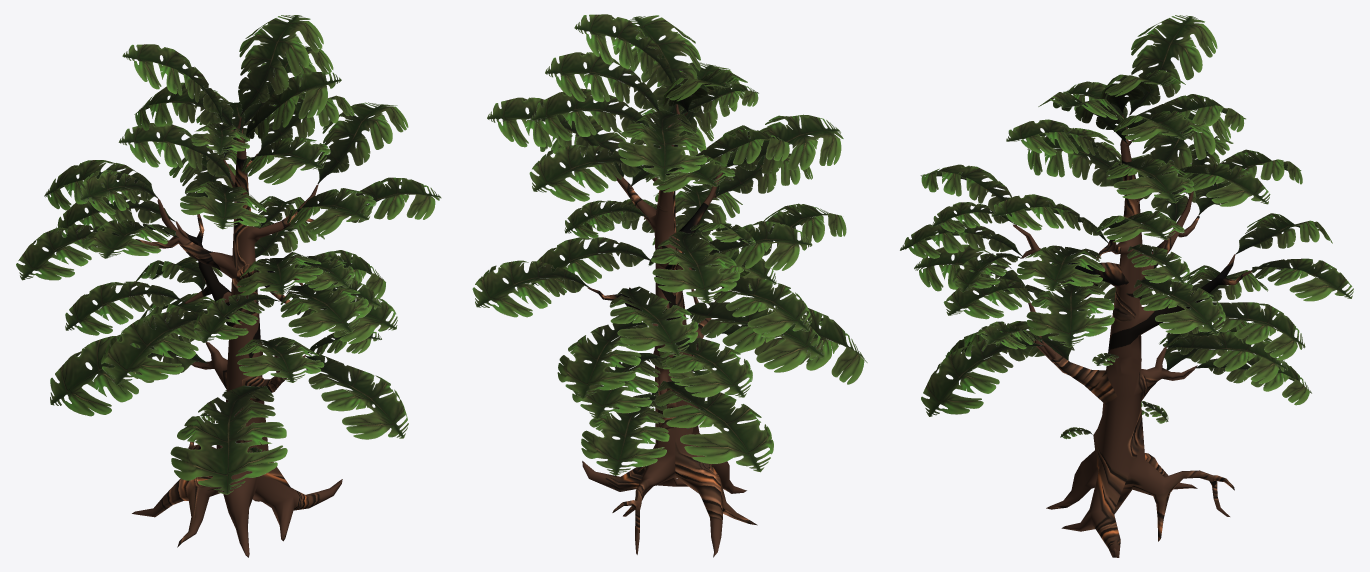
File: arbre_01.fbx
The picture shows the model from 3 angles, left to right: view 1: azimuth 30°, elevation 25°; view 2: azimuth 150°, elevation 25°; view 3: azimuth 270°, elevation 25°; orthographic projection.
Parts seen in each view (by area): view 1: feuille, tronc; view 2: feuille, tronc; view 3: feuille, tronc.
Part boxes in pixels (x1,y1,x2,y2): feuille: (16, 15, 441, 494); tronc: (132, 116, 342, 557); feuille: (472, 14, 867, 475); tronc: (582, 104, 757, 557); feuille: (900, 15, 1353, 439); tronc: (1013, 114, 1252, 557).
Bounding box in the file's own units: 220 × 291 × 250.
